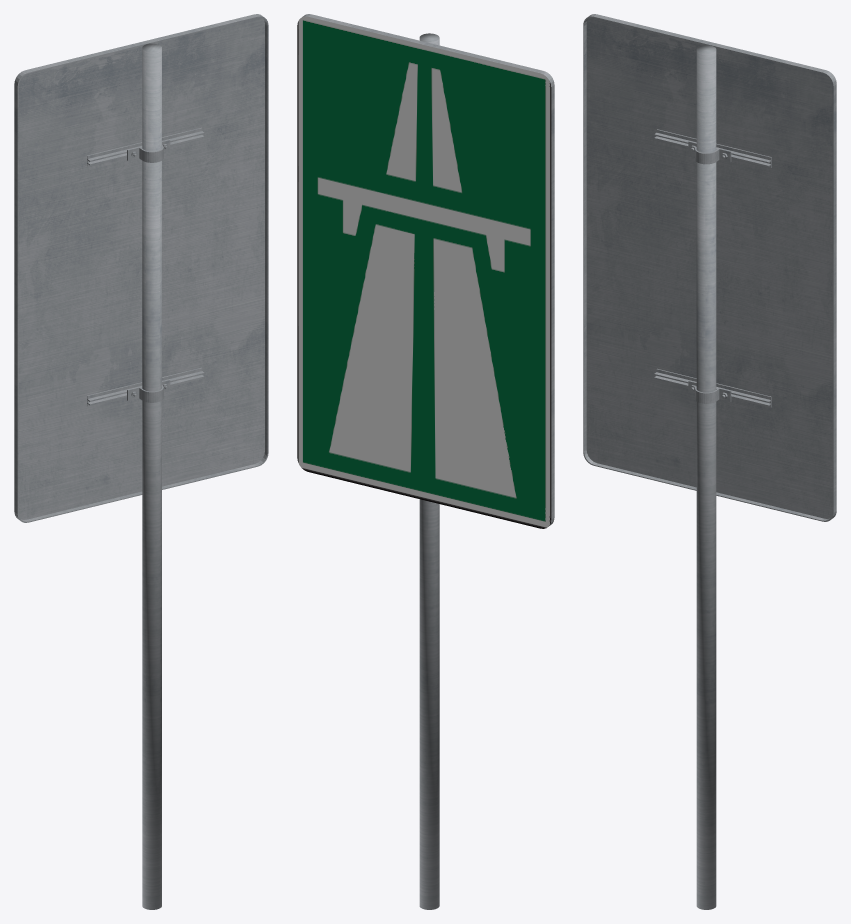
File: Motorway__green_.fbx
3 renders of one model, left to right at view 1: azimuth 30°, elevation 25°; view 2: azimuth 150°, elevation 25°; view 3: azimuth 330°, elevation 25°, orthographic.
Parts seen in each view (by area): view 1: Motorway (green); view 2: Motorway (green); view 3: Motorway (green).
Boxes of the visible parts, x1,y1,x2,y2 form: Motorway (green): (14,14,268,909); Motorway (green): (297,14,554,909); Motorway (green): (583,14,836,909).
Size of the model in its own units: 0.0875 by 0.875 by 2.86.
